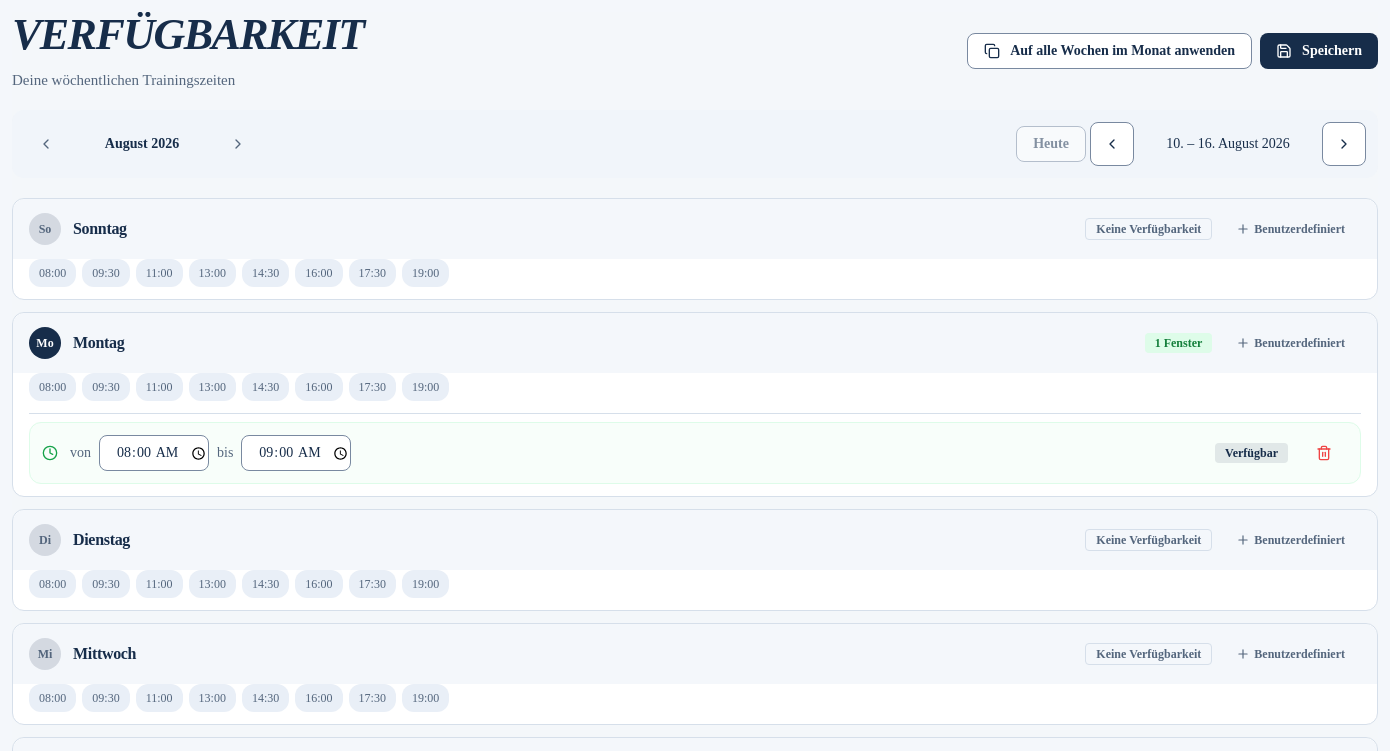
it: TrainerAvailabilityManager (integration) › clicking a chip in the grid view (per-day toggles) adds a second slot
Expected: the text "1 Fenster" is shown, 1145,333 -> 1212,353
Click the button "09:30" below "Montag": coordinates (106, 387) 82,373 -> 130,401
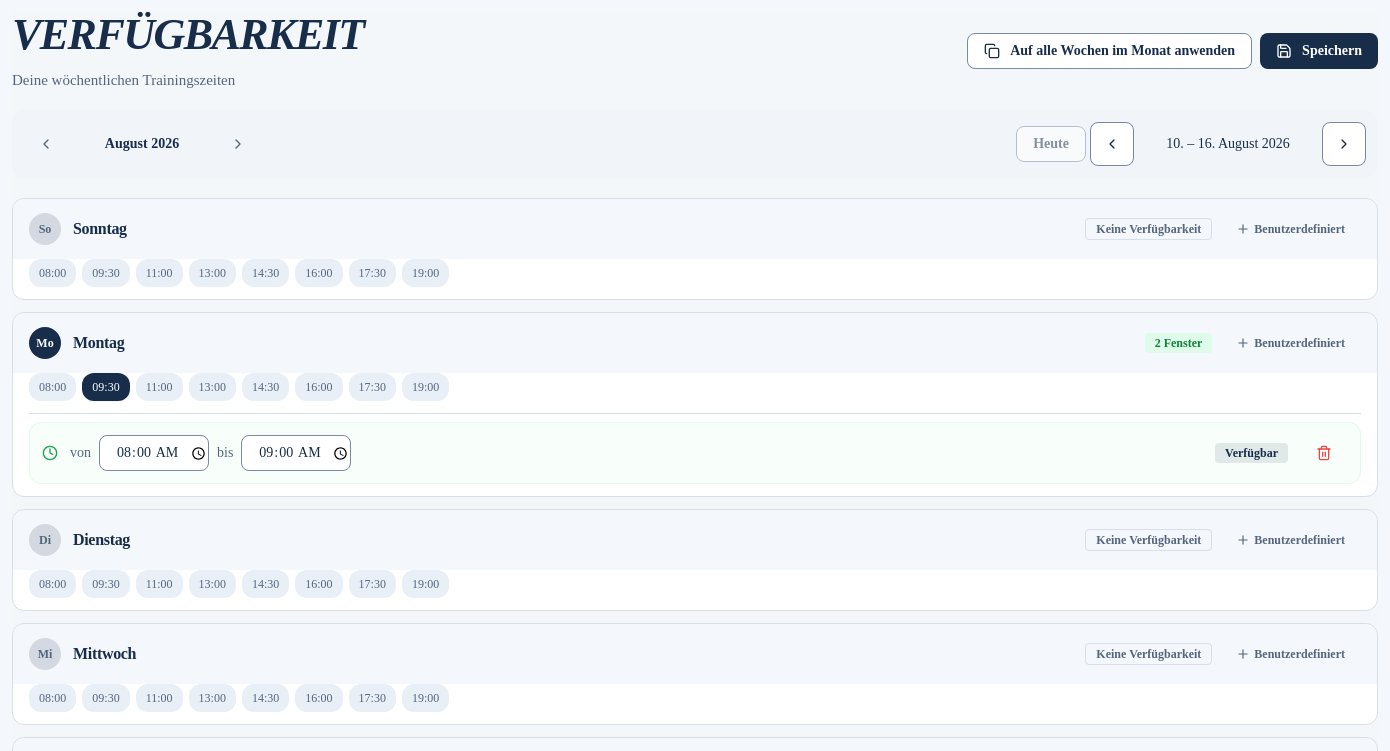
Expected: the text "2 Fenster" is shown, 1145,333 -> 1212,353
